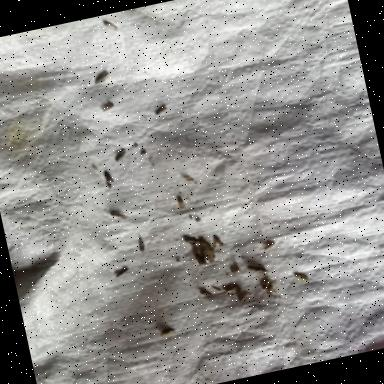pbw: (196, 234, 219, 266)
